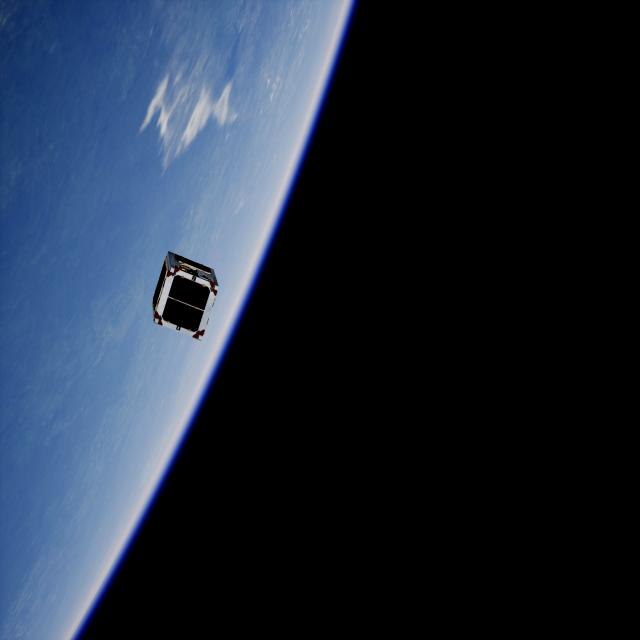satellite: (148, 248, 222, 340)
